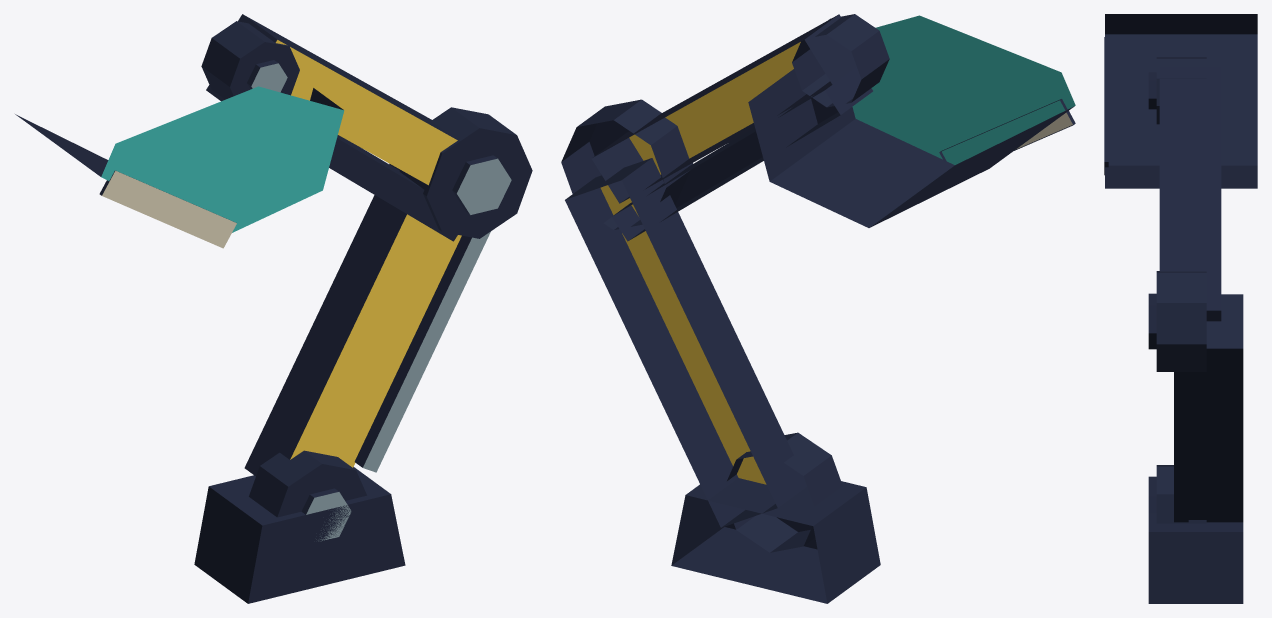
File: InspectionLamp.gltf
3 renders of one model, left to right at view 1: azimuth 30°, elevation 25°; view 2: azimuth 150°, elevation 25°; view 3: azimuth 270°, elevation 25°, orthographic. The views are drawn at different scales.
Parts seen in each view (by area): view 1: InspectionLamp; view 2: InspectionLamp; view 3: InspectionLamp.
Boxes of the visible parts, x1,y1,x2,y2 form: InspectionLamp: (15,14,532,603); InspectionLamp: (561,14,1075,603); InspectionLamp: (1104,14,1257,603).
Bounding box in the file's own units: 0.644 × 0.739 × 0.211.
